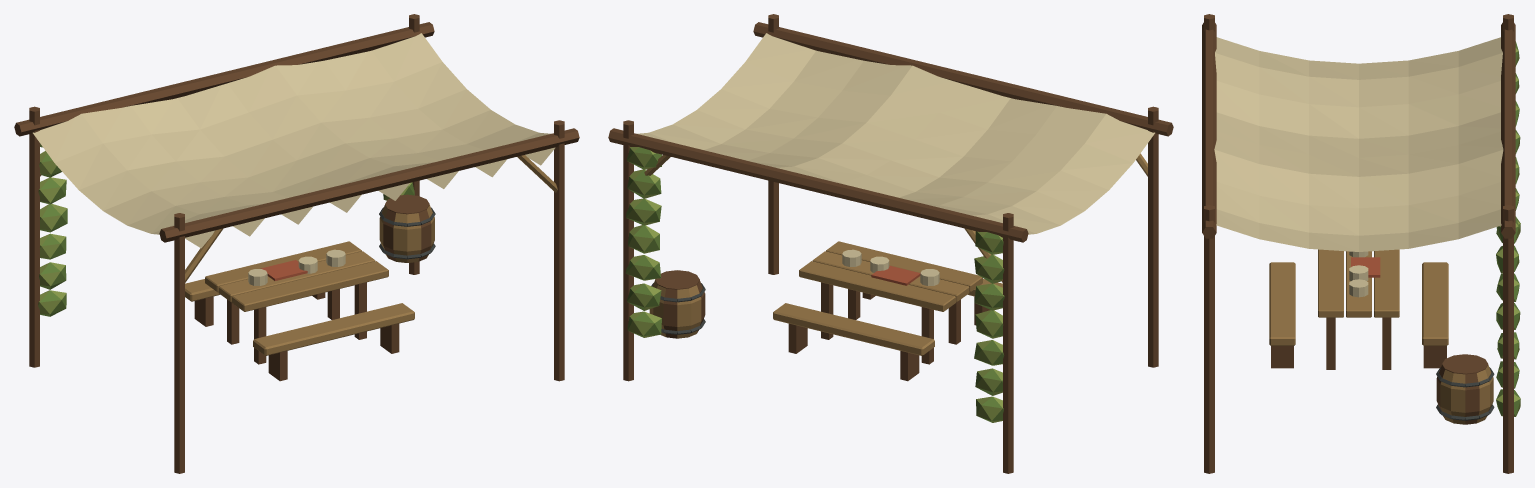
File: meadow_arbor.glb
3 views of the same model, side by side, from view 1: azimuth 30°, elevation 25°; view 2: azimuth 150°, elevation 25°; view 3: azimuth 270°, elevation 25° (orthographic). The views are drawn at different scales.
Visible parts, largest first — view 1: meadow_arbor_body; view 2: meadow_arbor_body; view 3: meadow_arbor_body.
Part boxes in pixels (left/top/right/bottom): meadow_arbor_body: left=14, top=14, right=579, bottom=473; meadow_arbor_body: left=608, top=14, right=1173, bottom=473; meadow_arbor_body: left=1202, top=14, right=1520, bottom=473.
Size of the model in its own units: 7.4 by 4.38 by 4.8.
